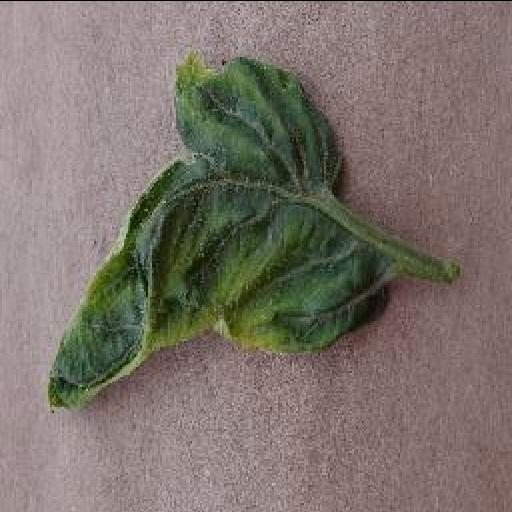disease_tomato: (44, 56, 392, 412)
